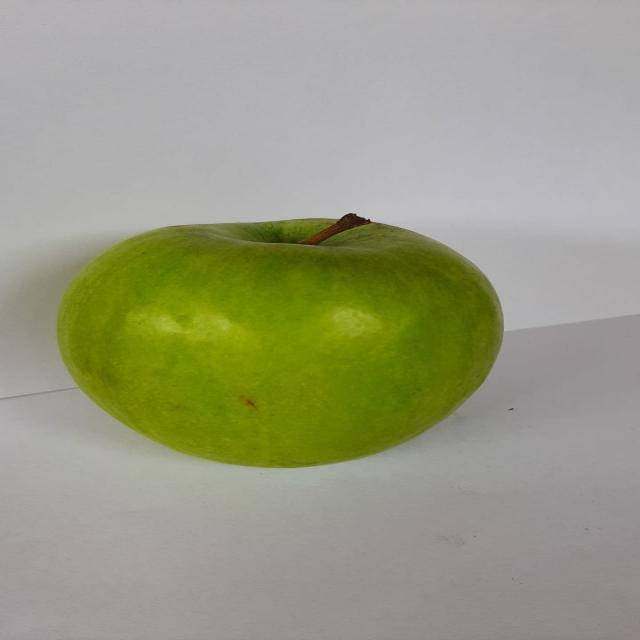50-_ripeness: (34, 197, 511, 485)
